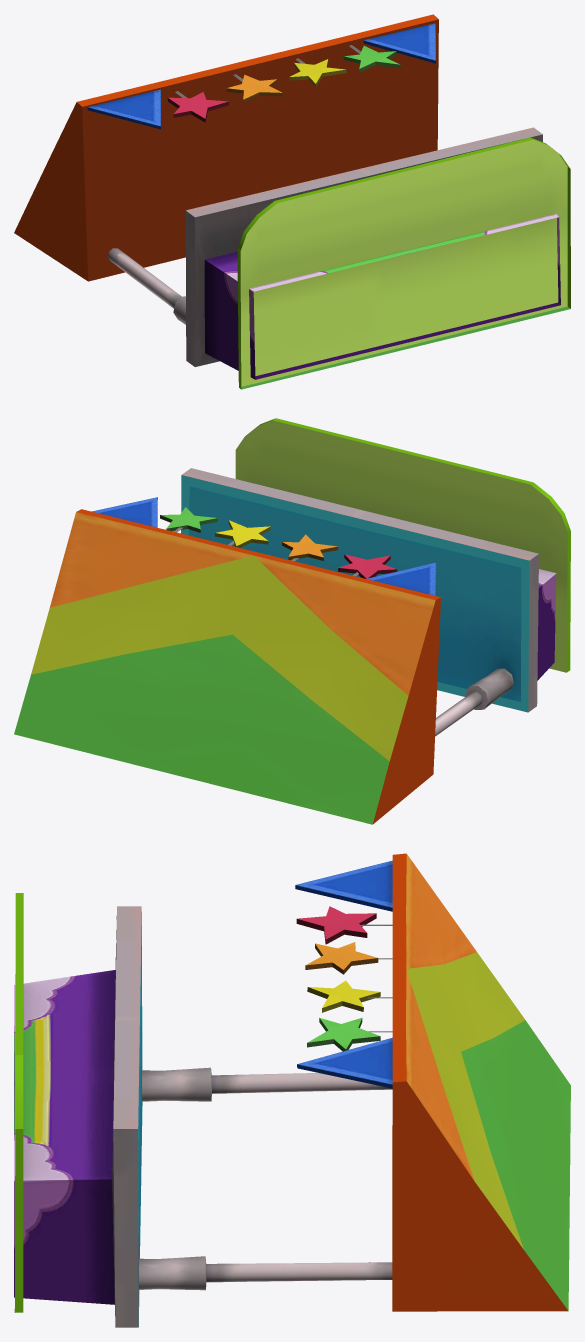
The model's file is RainbowKiosk.fbx.
3 views of the same model, one above another, from view 1: azimuth 30°, elevation 25°; view 2: azimuth 150°, elevation 25°; view 3: azimuth 270°, elevation 25° (orthographic). The views are drawn at different scales.
Parts seen in each view (by area): view 1: RainbowKiosk; view 2: RainbowKiosk; view 3: RainbowKiosk.
Part boxes in pixels (left/top/right/bottom): RainbowKiosk: left=14, top=14, right=570, bottom=389; RainbowKiosk: left=14, top=418, right=570, bottom=824; RainbowKiosk: left=14, top=853, right=570, bottom=1327.
Size of the model in its own units: 166 by 83.42 by 170.
